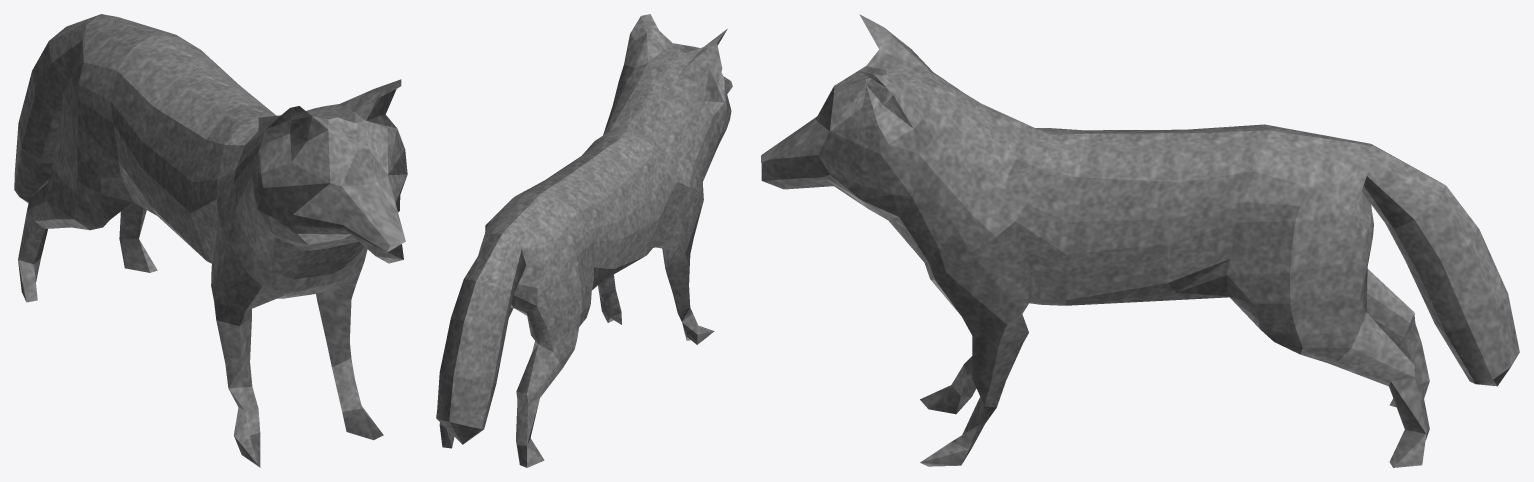
File: Fox.obj
3 renders of one model, left to right at view 1: azimuth 30°, elevation 25°; view 2: azimuth 150°, elevation 25°; view 3: azimuth 270°, elevation 25°, orthographic. The views are drawn at different scales.
Visible parts, largest first — view 1: Fox1; view 2: Fox1; view 3: Fox1.
Boxes of the visible parts, box(x1,y1,x2,y2) form: Fox1: box(14, 14, 407, 467); Fox1: box(436, 14, 732, 467); Fox1: box(761, 14, 1519, 467).
Size of the model in its own units: 0.3848 by 1.04 by 1.8.
1 material, 1 textured.
